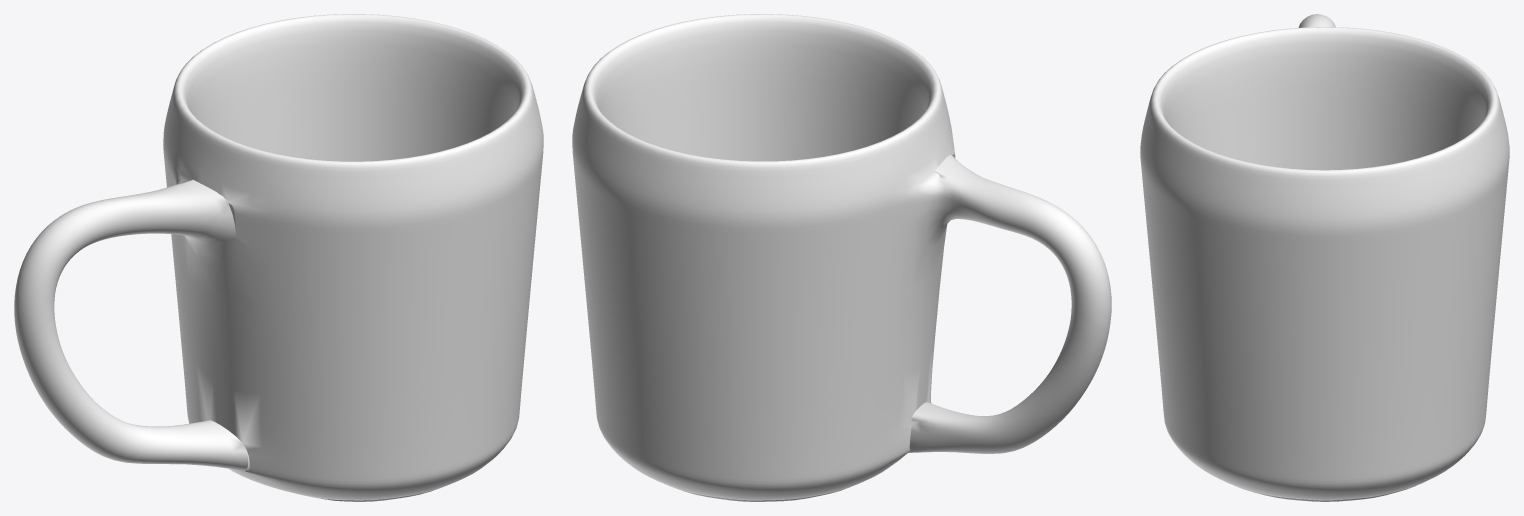
File: Coffee.obj
3 views of the same model, side by side, from view 1: azimuth 30°, elevation 25°; view 2: azimuth 150°, elevation 25°; view 3: azimuth 270°, elevation 25° (orthographic). The views are drawn at different scales.
Visible parts, largest first — view 1: Circle; view 2: Circle; view 3: Circle.
Boxes of the visible parts, left/top/right/bottom form: Circle: left=14, top=14, right=543, bottom=501; Circle: left=572, top=14, right=1111, bottom=501; Circle: left=1140, top=14, right=1509, bottom=501.
Size of the model in its own units: 35.8 by 24.55 by 23.3.
1 material, 1 textured.
